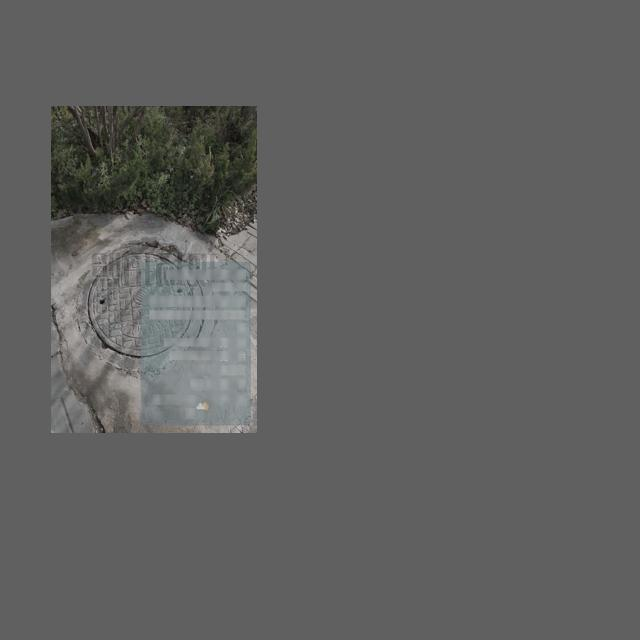good: (77, 246, 204, 373)
